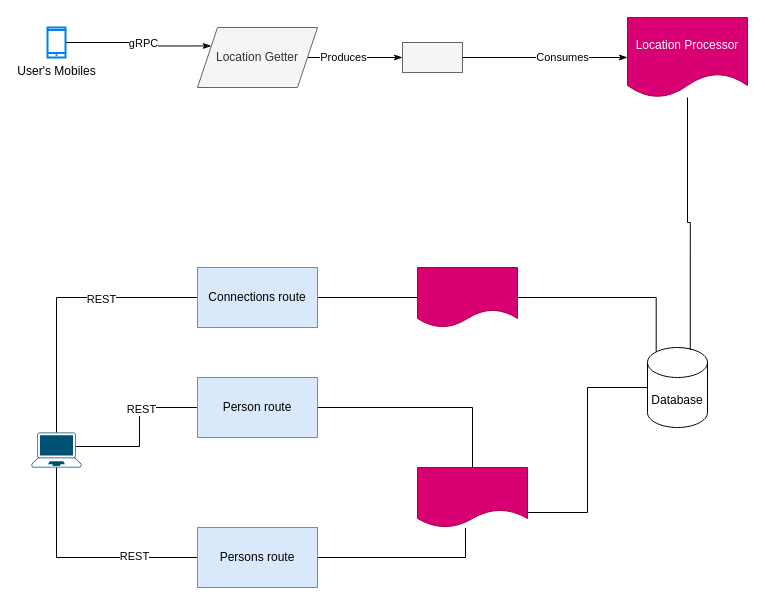
Image size: 765x605. Some labels were removed from this diagram. Each missing label, with the centre of its shape:
"Connections service" belongs at [467,297].
"Kafka" belongs at [432,57].
"Persons service" belongs at [472,497].
"Web Users of the application" belongs at [56,449].
